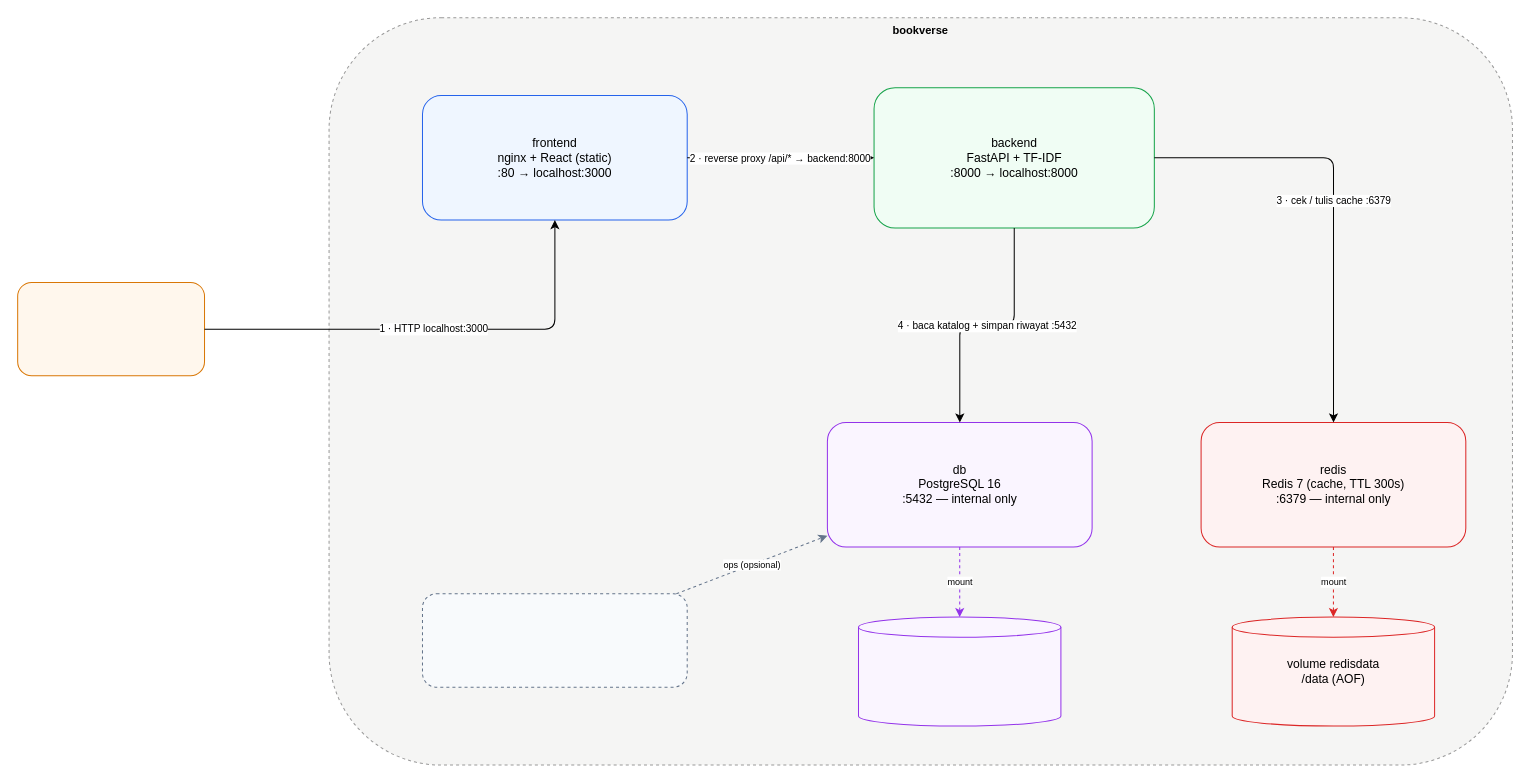
Some shapes in this 1530 by 783 pixel diagram are drawn without their labels. The box of each missing label's shape, as (x1, y1, x2, y2) in pixels:
adminer (profile tools) :8080 → localhost:8080: (421, 593, 687, 687)
Browser (pengguna): (17, 281, 205, 376)
volume pgdata /var/lib/postgresql/data: (857, 616, 1061, 726)
